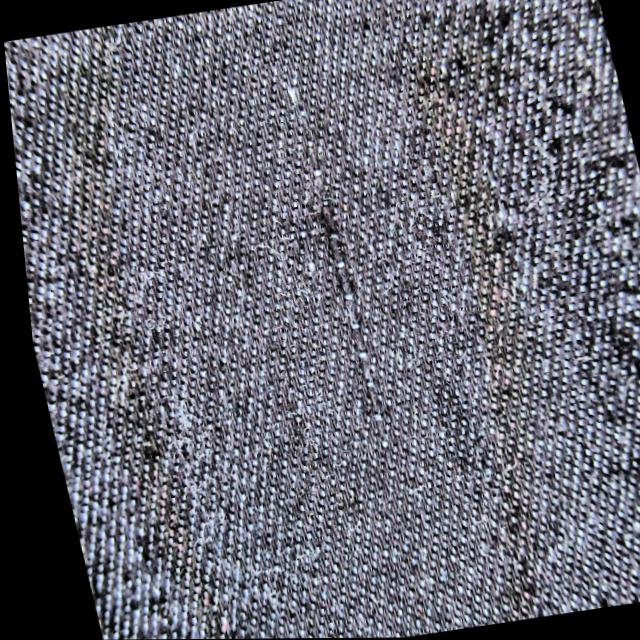Hole: (272, 1, 410, 583)
